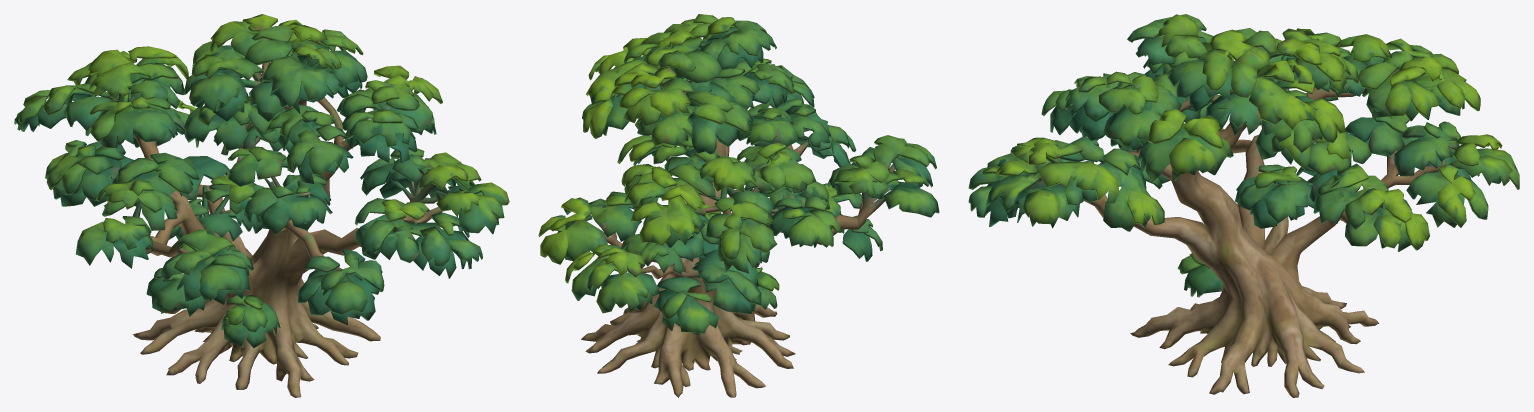
Rendered from pack-tree.glb.
3 renders of one model, left to right at view 1: azimuth 30°, elevation 25°; view 2: azimuth 150°, elevation 25°; view 3: azimuth 270°, elevation 25°, orthographic. The views are drawn at different scales.
Parts seen in each view (by area): view 1: tripo_node_53c3b701-3bc7-47e5-a79d-6f18881997bb; view 2: tripo_node_53c3b701-3bc7-47e5-a79d-6f18881997bb; view 3: tripo_node_53c3b701-3bc7-47e5-a79d-6f18881997bb.
Boxes of the visible parts, x1=… form: tripo_node_53c3b701-3bc7-47e5-a79d-6f18881997bb: x1=14, y1=14, x2=509, y2=397; tripo_node_53c3b701-3bc7-47e5-a79d-6f18881997bb: x1=538, y1=14, x2=939, y2=397; tripo_node_53c3b701-3bc7-47e5-a79d-6f18881997bb: x1=968, y1=14, x2=1519, y2=397.
Bounding box in the file's own units: 0.7553 × 0.652 × 0.9771.
1 material, 1 textured.
